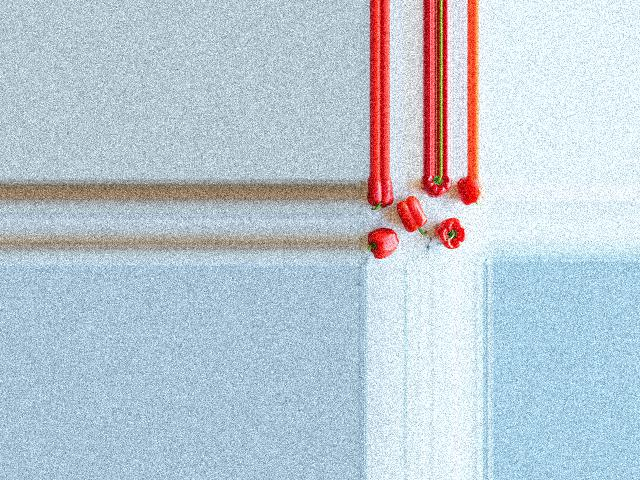bell_pepper: (420, 176, 450, 198)
